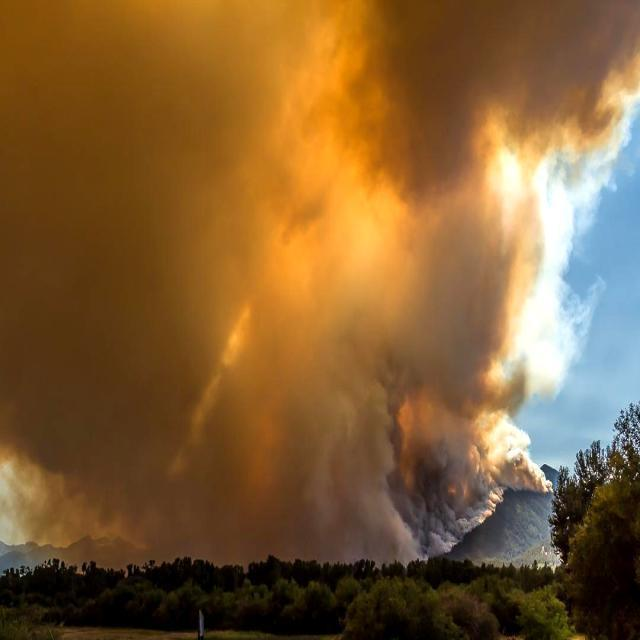Smoke: (0, 0, 546, 571)
